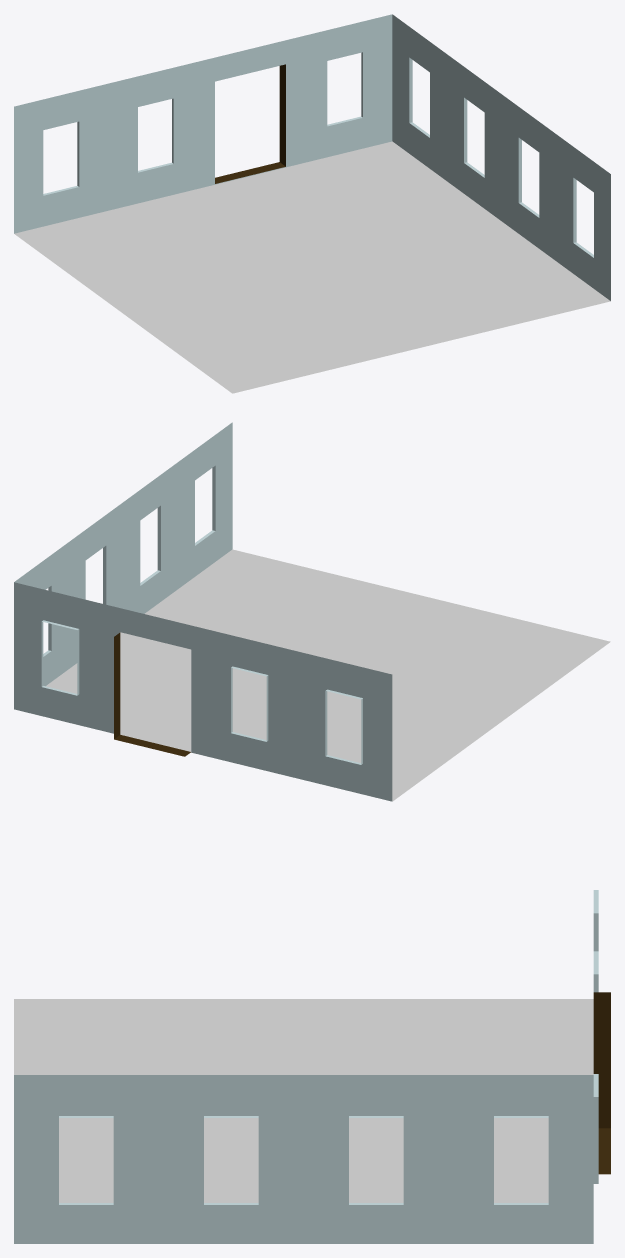
Rendered from Room.fbx.
3 renders of one model, top to bottom at view 1: azimuth 30°, elevation 25°; view 2: azimuth 150°, elevation 25°; view 3: azimuth 270°, elevation 25°, orthographic. The views are drawn at different scales.
Visible parts, largest first — view 1: Room; view 2: Room; view 3: Room.
Part boxes in pixels (left/top/right/bottom): Room: left=14, top=14, right=610, bottom=393; Room: left=14, top=422, right=610, bottom=801; Room: left=14, top=890, right=610, bottom=1243.
Bounding box in the file's own units: 6050 × 1926 × 6179.
